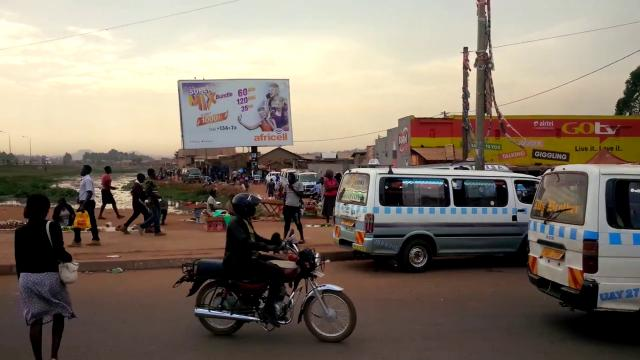motorcycle: (180, 233, 362, 351)
van: (333, 170, 514, 269), (524, 163, 639, 317), (285, 170, 321, 197), (179, 166, 205, 184)
